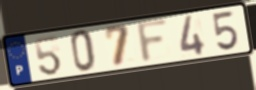0: (69, 29, 99, 74)
4: (178, 14, 207, 58)
5: (32, 34, 64, 77), (210, 10, 240, 52)
7: (103, 22, 134, 69)
F: (135, 16, 171, 66)
